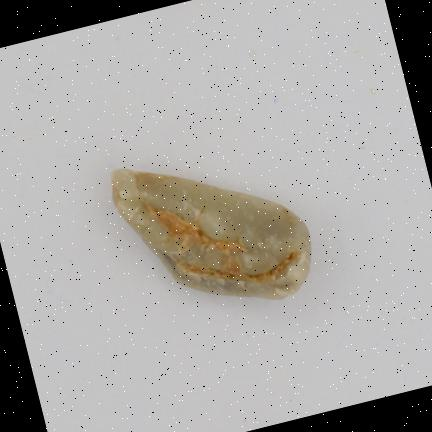shell: (111, 168, 310, 298)
